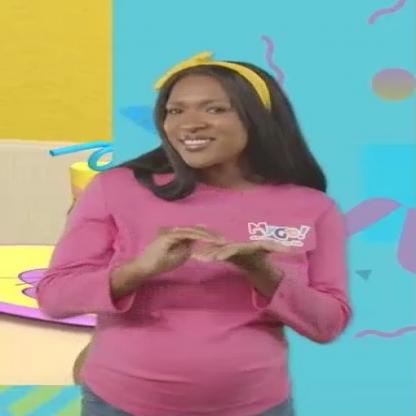ExcuseMe: (127, 191, 286, 302)
